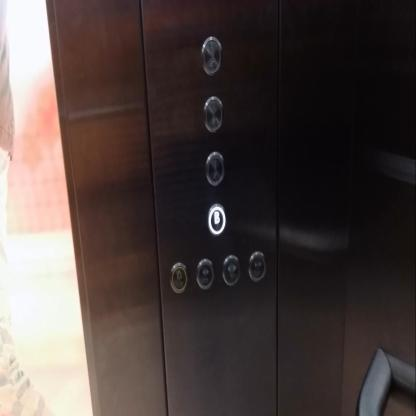1: (203, 148, 225, 188)
B: (206, 200, 228, 240)
alarm: (167, 258, 190, 297)
blur: (200, 33, 224, 77), (201, 93, 224, 134)
close: (245, 247, 268, 286)
open: (193, 255, 216, 294), (220, 251, 242, 290)
